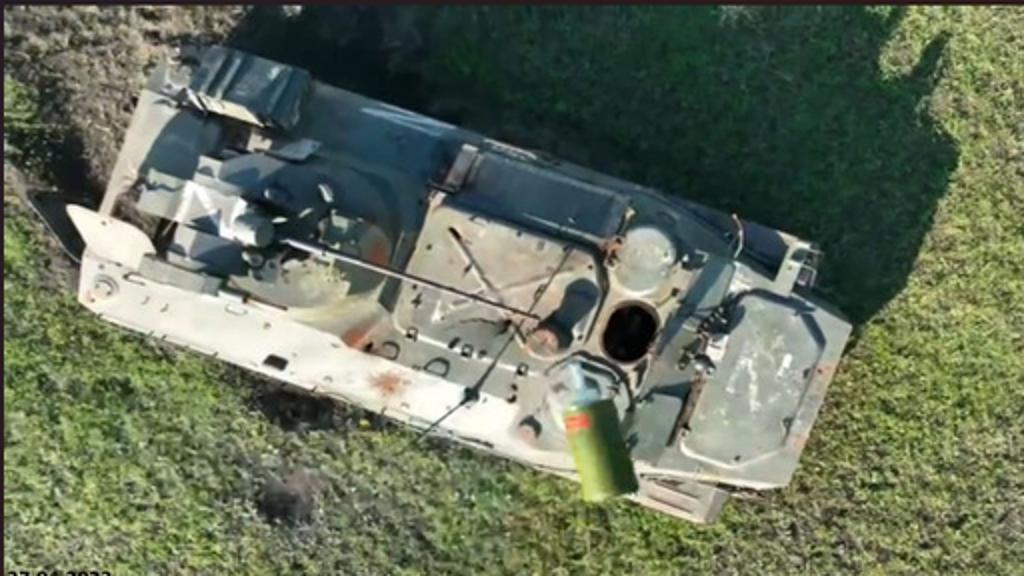APC-IFV: (34, 24, 868, 554)
